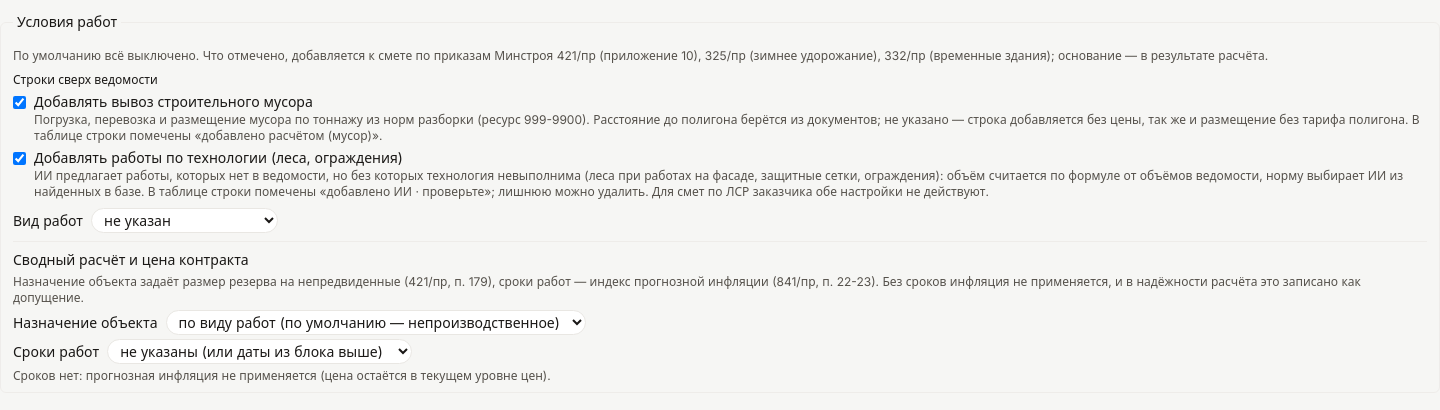
Test: «Условия работ»: назначение объекта и сроки для сводного расчёта › «работы с … по …» — даты попадают в общий срок работ
Select "работы с … по …" in the dropdown named "Как заданы сроки работ" at (260, 352), box [107, 339, 412, 364]
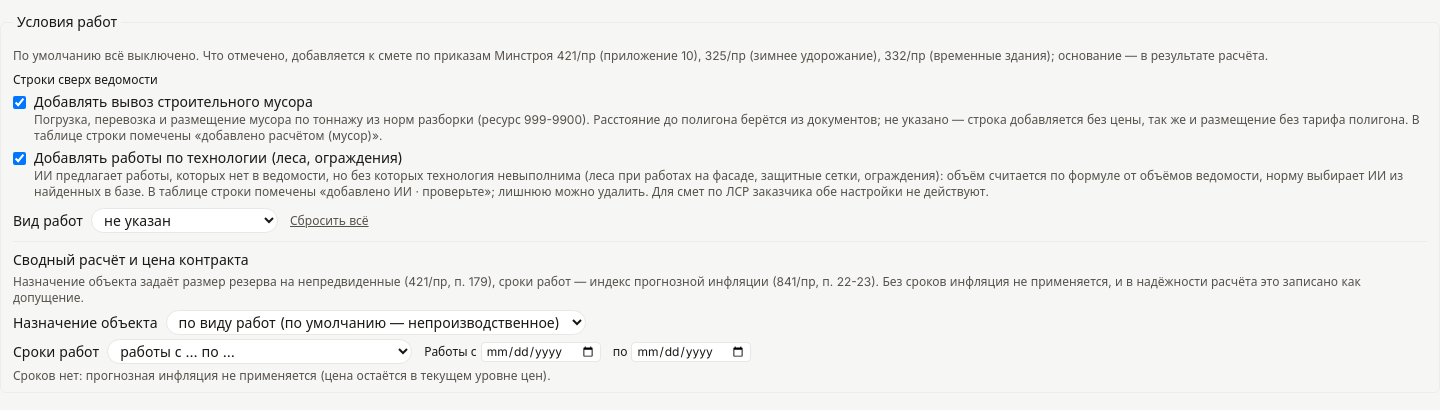
Type "2026-10-01" into the date field labelled "Работы с" at (541, 352), box [481, 342, 601, 362]
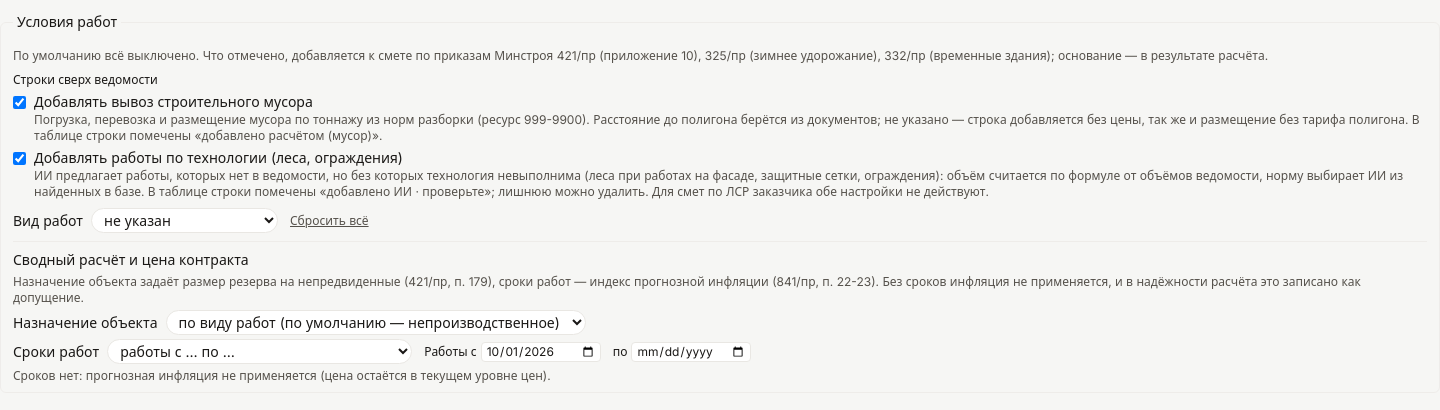
Type "2026-11-30" into the date field named "Работы по" at (691, 352), box [631, 342, 751, 362]
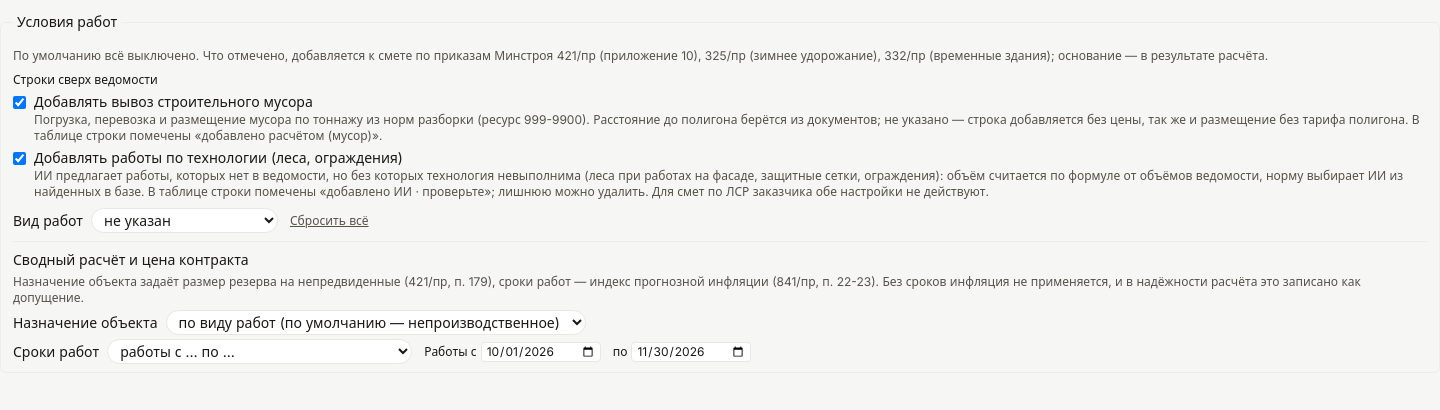
Now the text with test id "ssr-no-period" is gone
